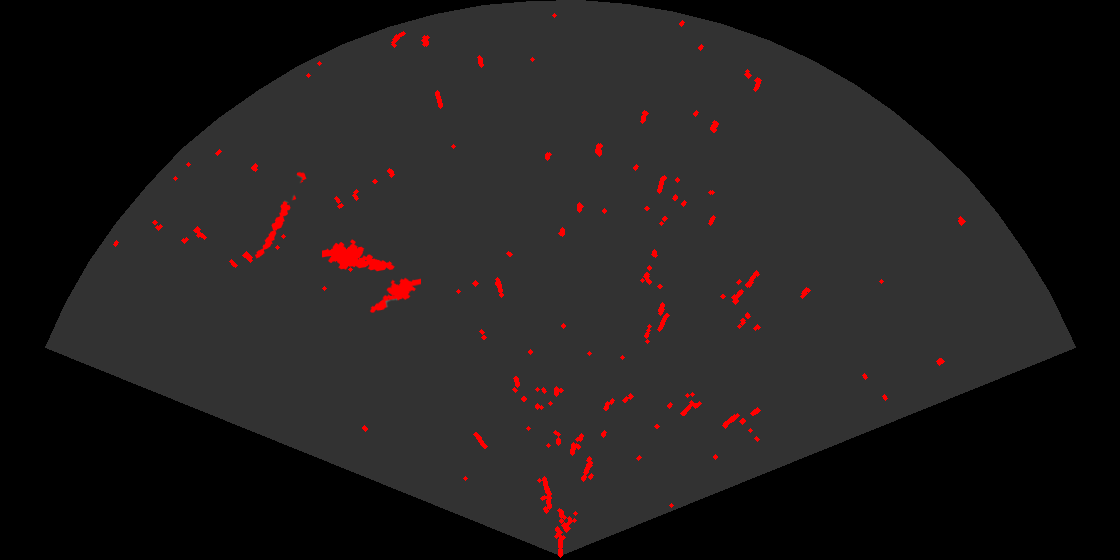chain: (253, 170, 308, 260)
frogman: (322, 238, 396, 273), (368, 276, 421, 314)
